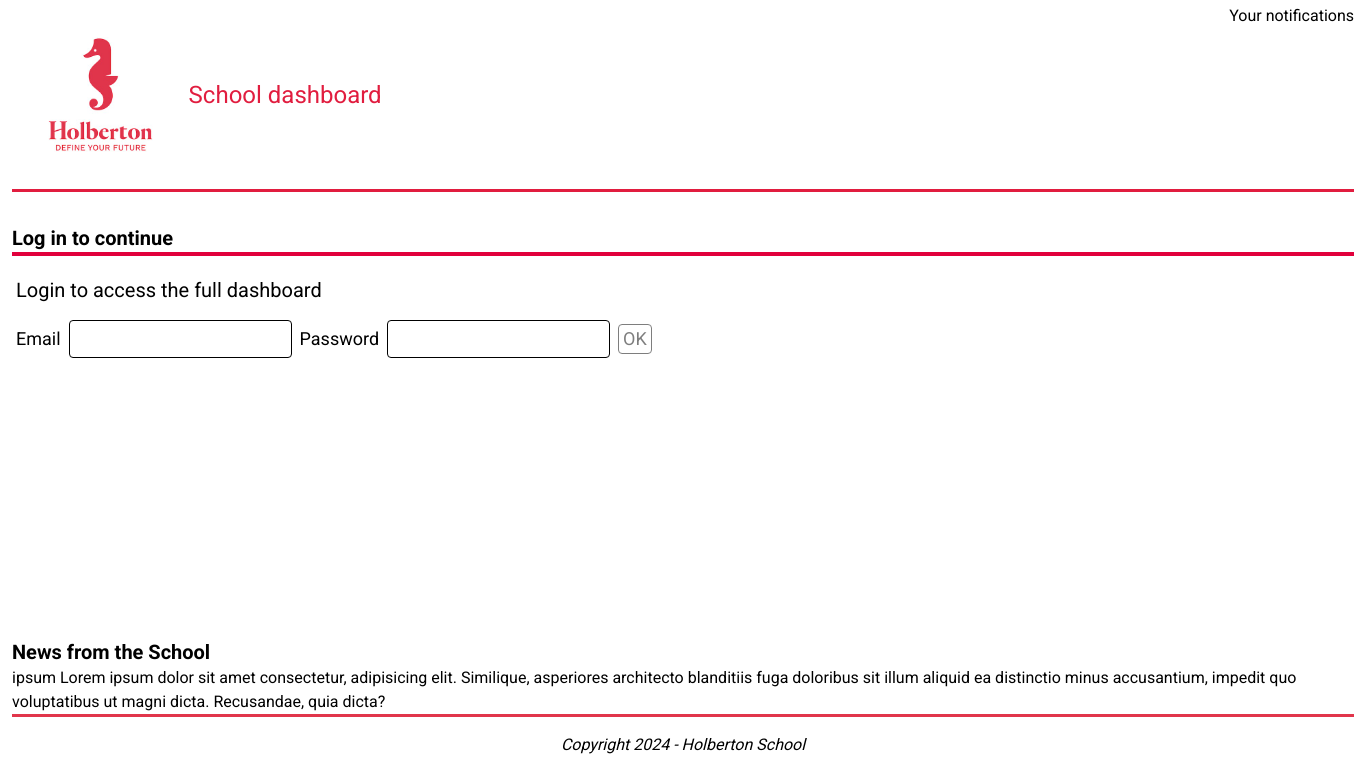
Test: App Component › renders CourseList after successful login
The width and height of the screenshot is (1366, 768).
Check: the heading "Log in to continue" is shown, box top-left (12, 226), bottom-right (173, 250)
Type "test@example.com" into the field labelled "Email". click: x=180, y=339
box: top-left (69, 320), bottom-right (292, 358)
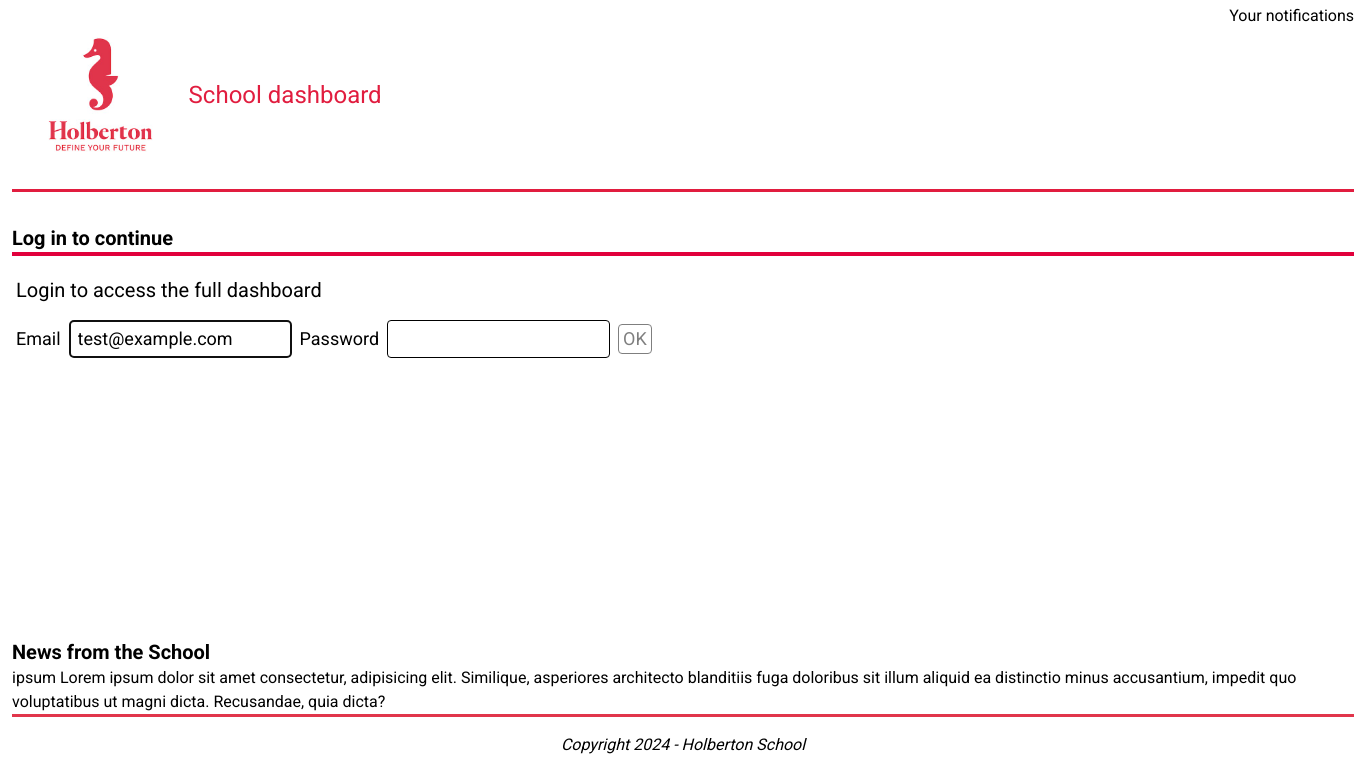
Type "12345678" into the password field labelled "Password". click: x=499, y=339
box: top-left (387, 320), bottom-right (610, 358)
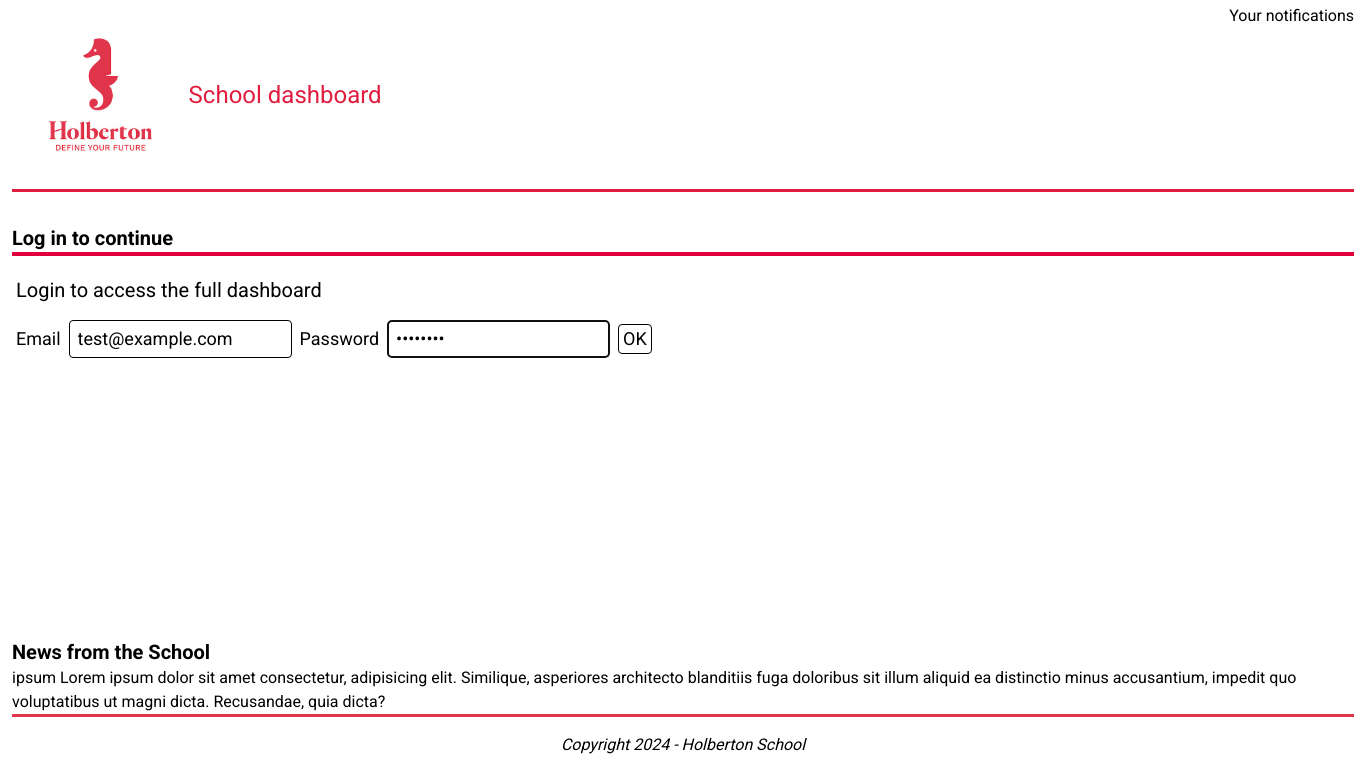
Click the button "OK". click: x=635, y=339
box: top-left (618, 324), bottom-right (652, 354)
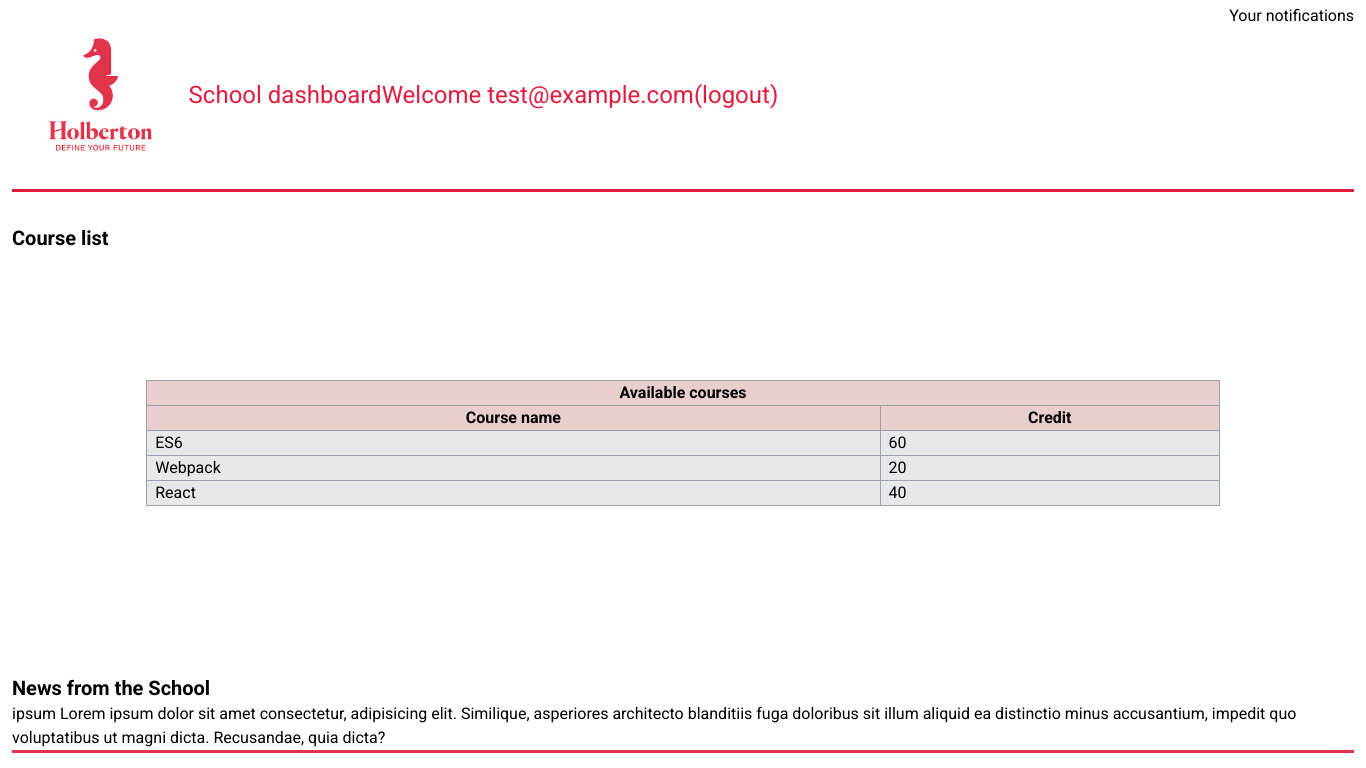
Check: the heading "Course list" is shown, box top-left (12, 226), bottom-right (109, 250)
Check: the table is shown, box top-left (146, 380), bottom-right (1220, 506)
Check: the text "Welcome test@example.com(logout)" is shown, box top-left (382, 76), bottom-right (778, 112)
